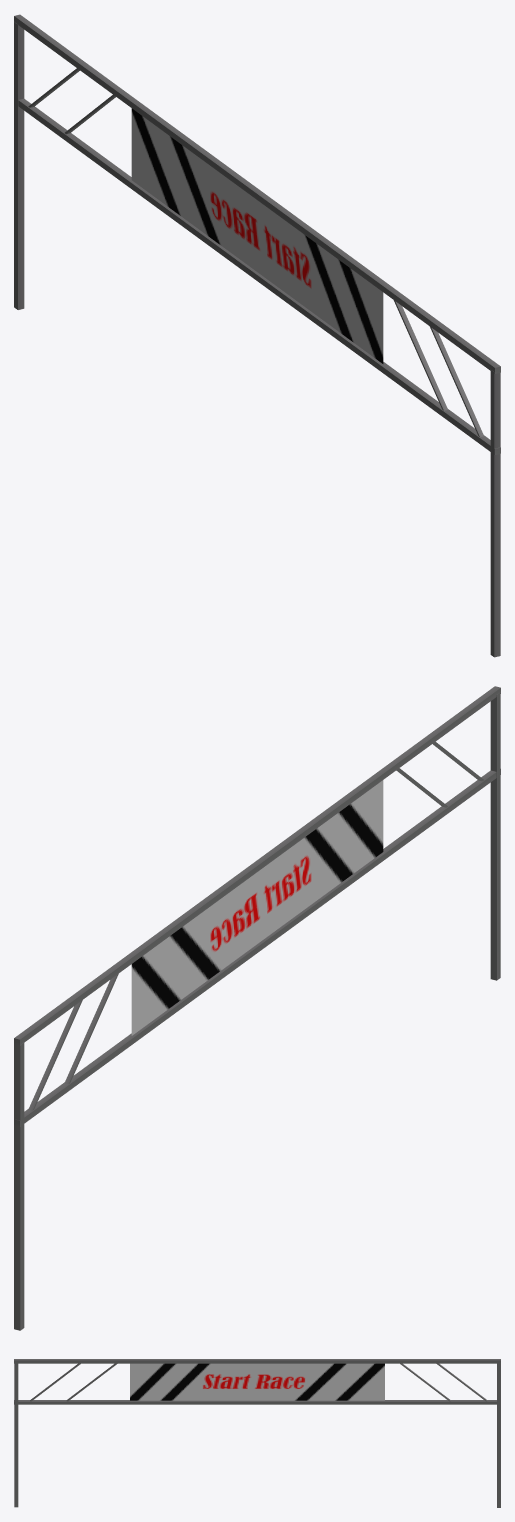
File: Start Line.fbx
3 views of the same model, one above another, from view 1: azimuth 30°, elevation 25°; view 2: azimuth 150°, elevation 25°; view 3: azimuth 270°, elevation 25° (orthographic). The views are drawn at different scales.
Visible parts, largest first — view 1: Start, Start.001; view 2: Start, Start.001; view 3: Start.001, Start.
Boxes of the visible parts, bbox=[...] form: Start: bbox=[14, 14, 500, 657]; Start.001: bbox=[131, 108, 383, 363]; Start: bbox=[14, 686, 500, 1330]; Start.001: bbox=[131, 780, 383, 1035]; Start.001: bbox=[130, 1363, 384, 1400]; Start: bbox=[14, 1359, 500, 1507].
Bounding box in the file's own units: 18.37 × 795 × 2380.
